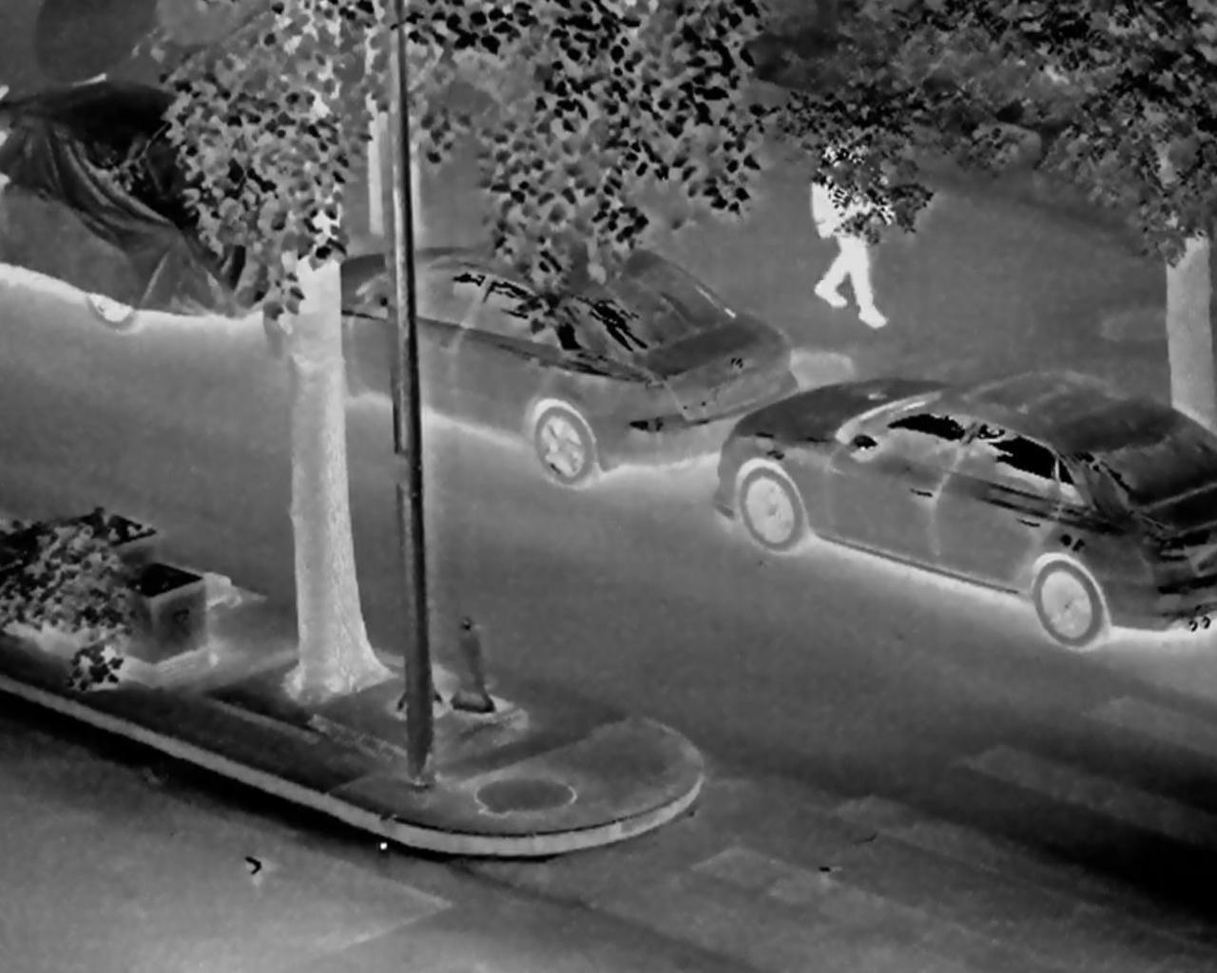person: (794, 98, 907, 349)
